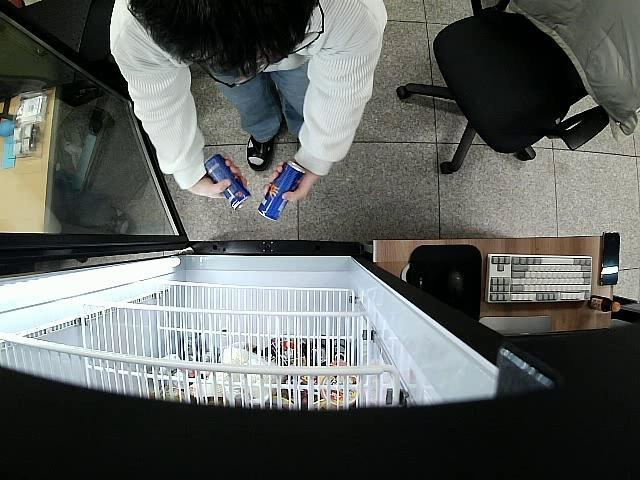16_hot6: (255, 161, 306, 222), (204, 155, 250, 212)
